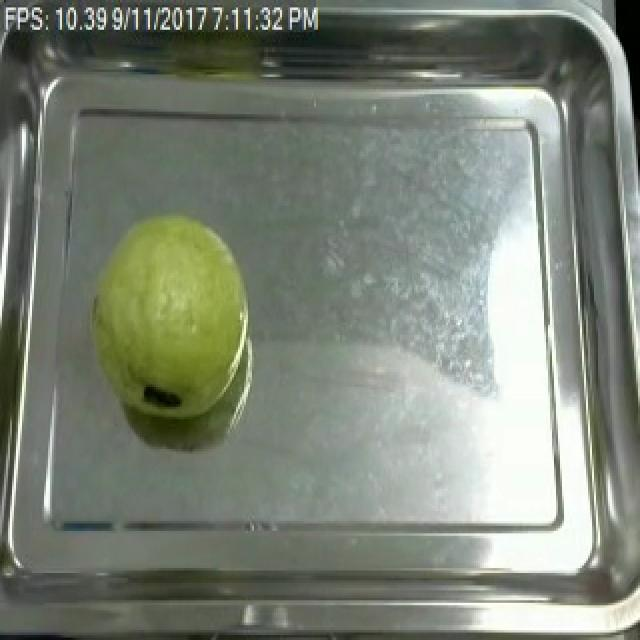Fruit: (76, 203, 258, 439)
